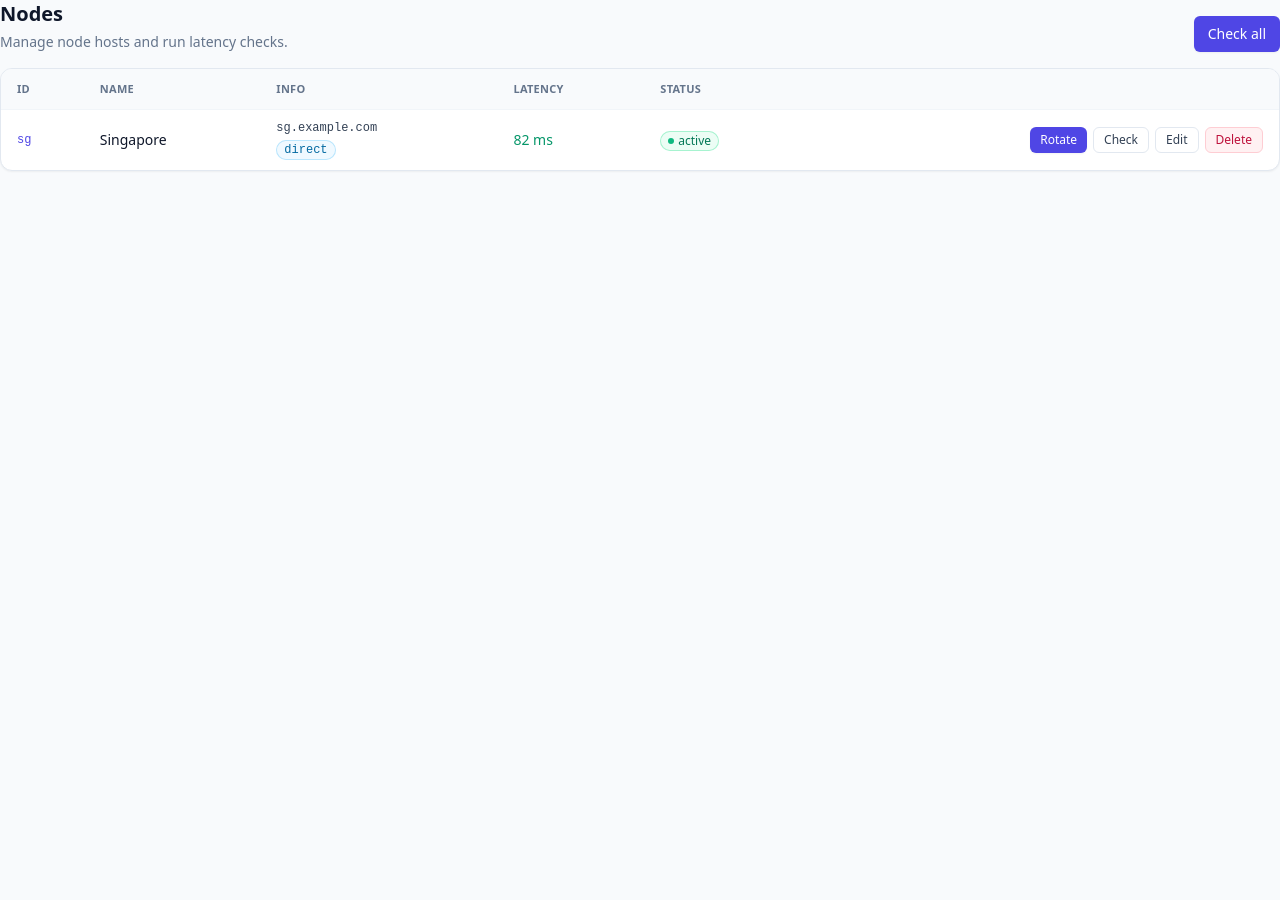
Test: delete failure shows error toast and keeps node
Expected: the text "Singapore" is shown, [84,110,260,170]
Click the button "Delete": (1234, 140) [1204,127,1263,153]
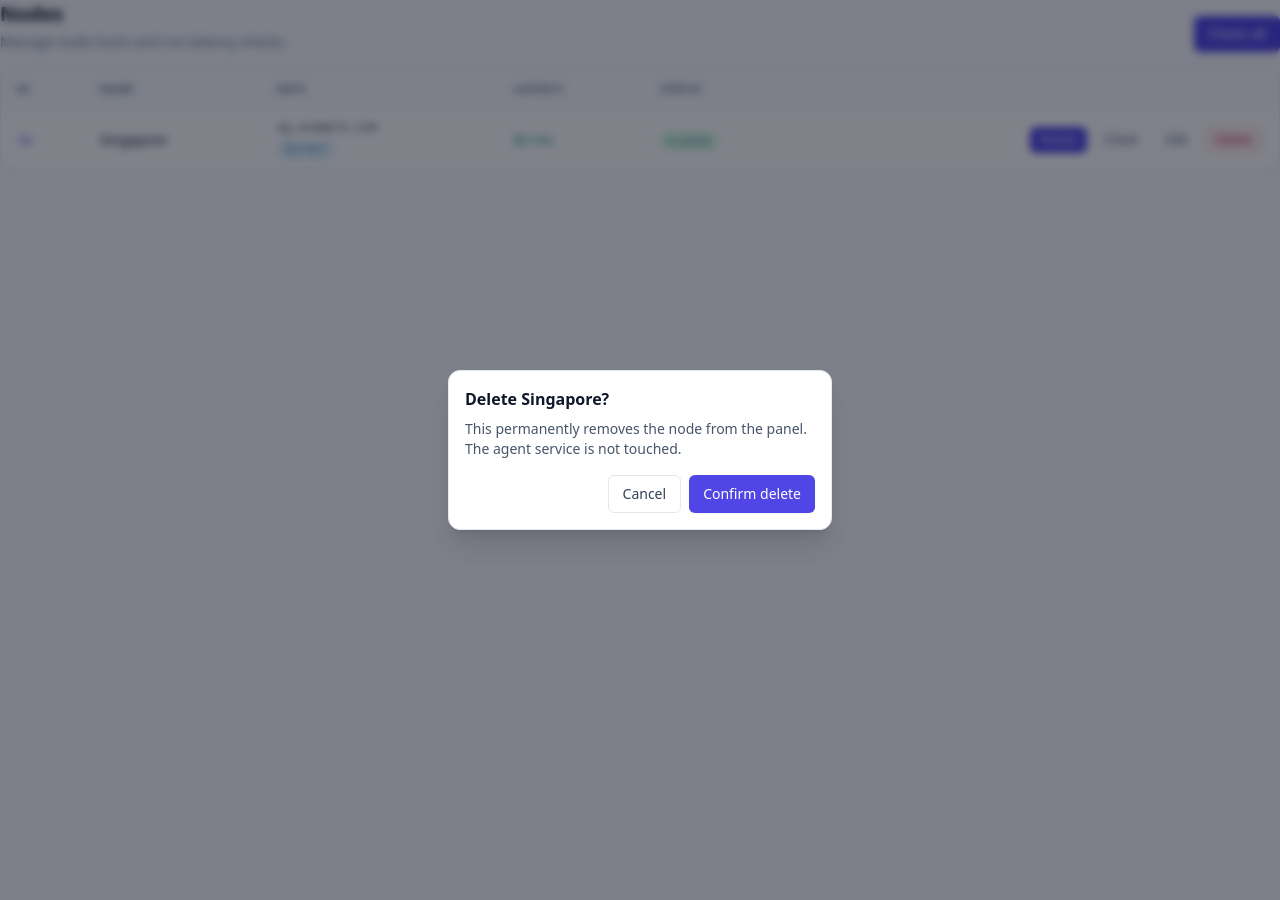
Click the button "Confirm delete": (752, 494) [689,475,815,513]
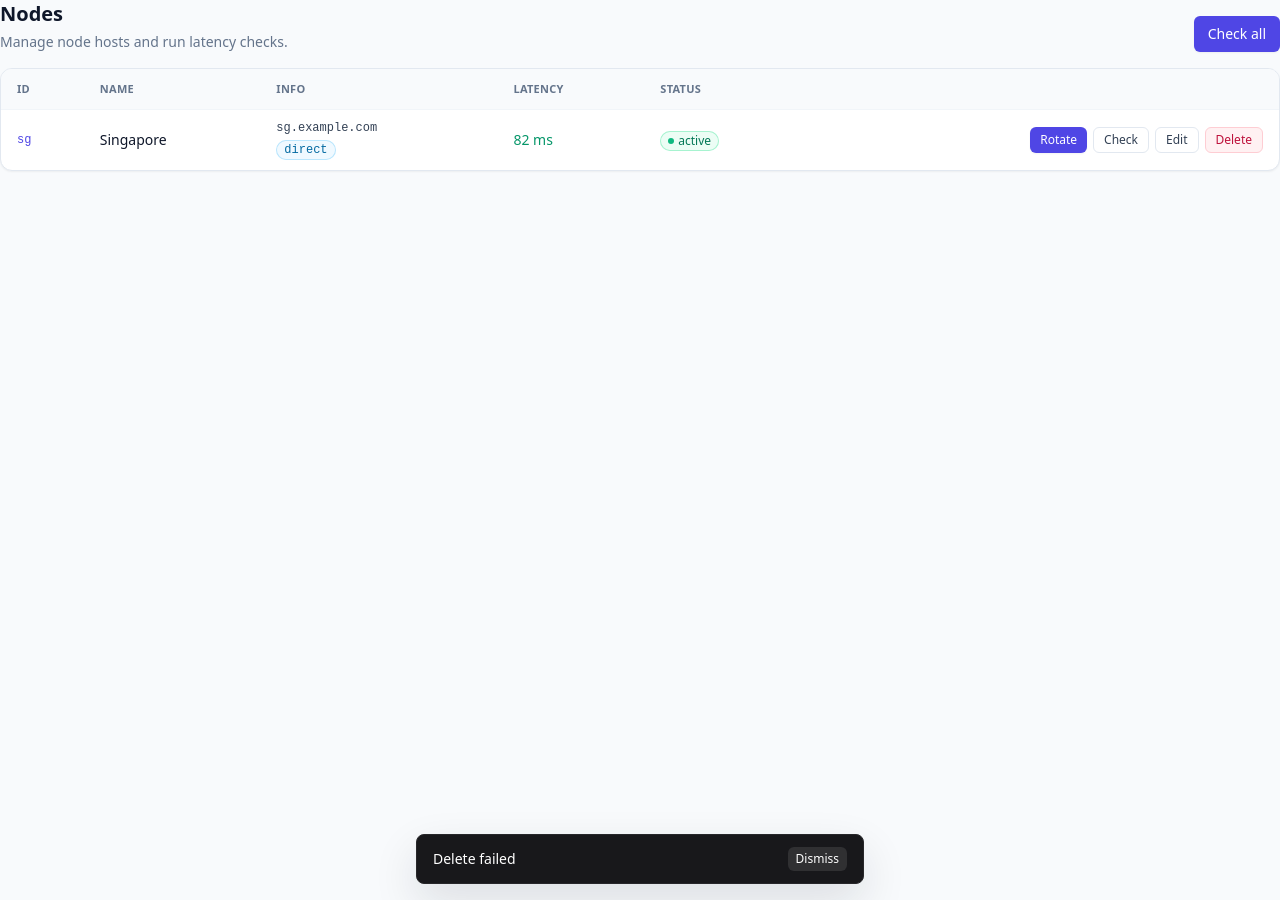
Expected: the text "Singapore" is shown, [84,110,260,170]
Now the text "Delete failed" is shown, box [433,849,516,869]
